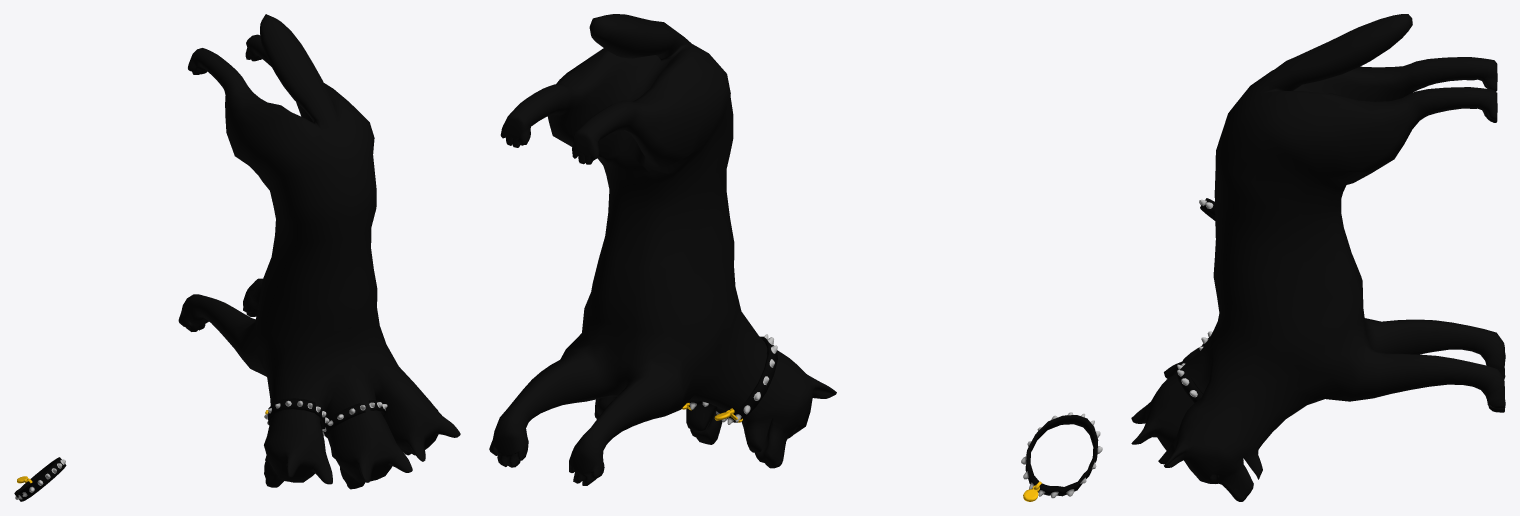
File: cerbere.fbx
3 views of the same model, side by side, from view 1: azimuth 30°, elevation 25°; view 2: azimuth 150°, elevation 25°; view 3: azimuth 270°, elevation 25° (orthographic). The views are drawn at different scales.
Parts seen in each view (by area): view 1: BODY, collar1, collar1.002, collar1.001; view 2: BODY, collar1, collar1.002; view 3: BODY, collar1.001.
Boxes of the visible parts, x1,y1,x2,y2 form: BODY: [178, 14, 460, 489]; collar1: [14, 457, 66, 501]; collar1.002: [264, 398, 329, 431]; collar1.001: [322, 400, 387, 437]; BODY: [489, 14, 836, 485]; collar1: [1021, 412, 1102, 498]; collar1.002: [716, 334, 777, 424]; BODY: [1131, 14, 1505, 501]; collar1.001: [1177, 363, 1202, 402].
Bounding box in the file's own units: 0.1037 × 0.099 × 0.0733.
6 materials, 1 textured.
